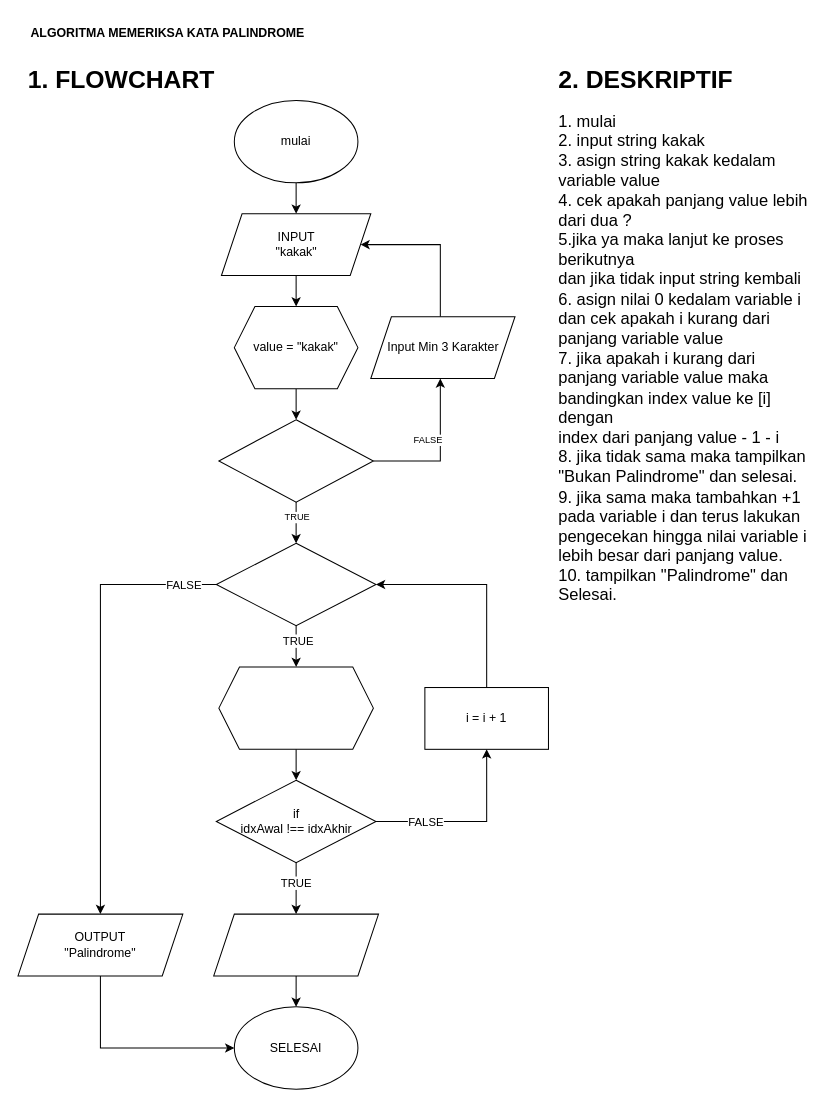
This 839x1107 diagram has some shape labels left out. Each missing label, with the box of its shape:
idxAwal = value[i]; idxAkhir = value[value.length - 1 - i];: (218, 666, 373, 749)
is value.length <= 2 ?: (218, 419, 373, 502)
OUTPUT "Bukan Palindrome": (213, 913, 379, 976)
var i = 0; i < value.length / 2;: (215, 542, 376, 626)
